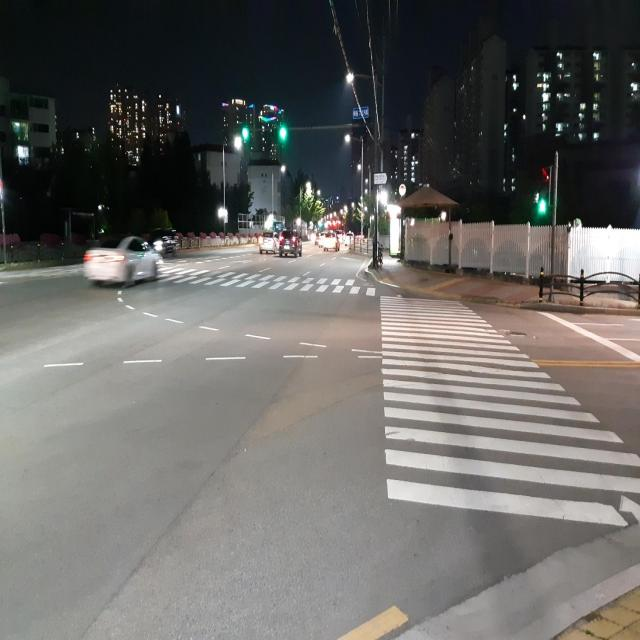횡단보도: (379, 293, 640, 528), (19, 258, 381, 298)
